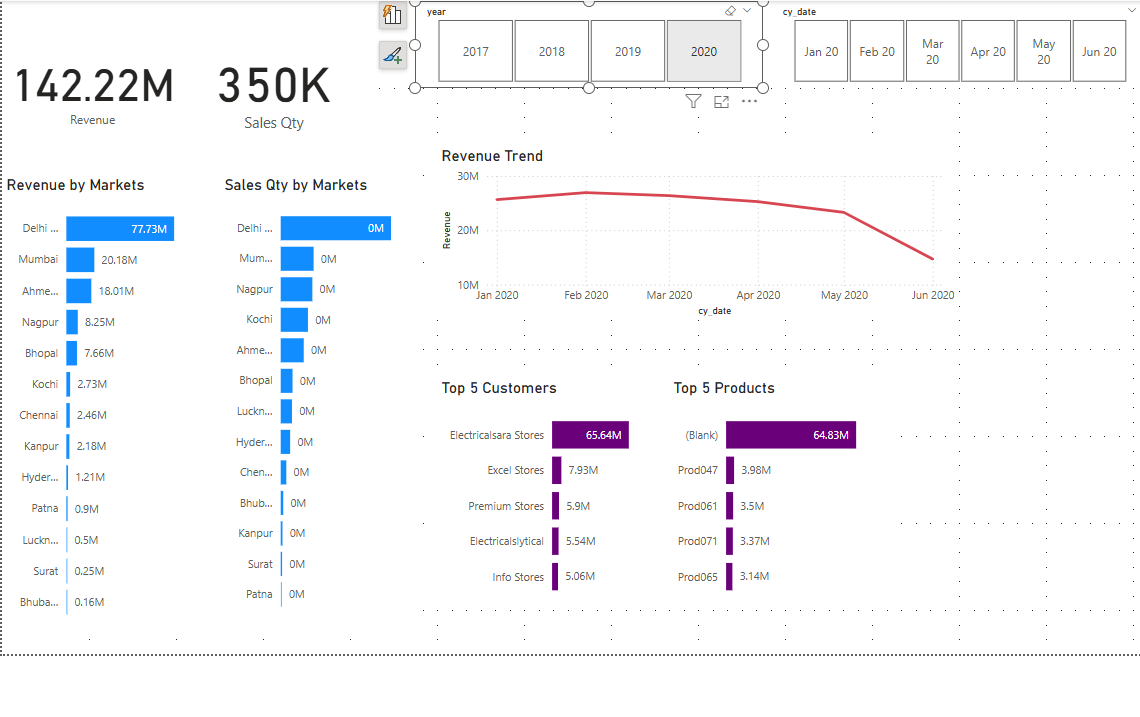

This screenshot's page, from the dashboard's own definition file:
{"tool":"powerbi","page":{"name":"Page 2","canvas":[1280,720],"ordinal":1},"visuals":[{"type":"card","fields":{"Values":["BaseMeasures.Revenue"]},"box":[0,0,200,192],"z":0},{"type":"card","fields":{"Values":["BaseMeasures.Sales Qty"]},"box":[192,0,216,192],"z":1000},{"type":"barChart","title":"Revenue by Markets","fields":{"Y":["BaseMeasures.Revenue"],"Category":["sales markets.markets_name"]},"box":[0,192,232,504],"z":2000},{"type":"barChart","title":"Sales Qty by Markets","fields":{"Y":["BaseMeasures.Sales Qty"],"Category":["sales markets.markets_name"]},"box":[240,192,216,504],"z":3000},{"type":"slicer","fields":{"Values":["sales date.year"]},"box":[456,0,384,96],"z":4000},{"type":"slicer","fields":{"Values":["sales date.cy_date"]},"box":[848,0,416,96],"z":5000},{"type":"barChart","title":"Top 5 Customers","fields":{"Y":["BaseMeasures.Revenue"],"Category":["sales customers.custmer_name"]},"box":[480,416,256,256],"z":6000},{"type":"barChart","title":"Top 5 Products","fields":{"Y":["BaseMeasures.Revenue"],"Category":["sales products.product_code"]},"box":[736,416,256,256],"z":7000},{"type":"lineChart","title":"Revenue Trend","fields":{"Y":["BaseMeasures.Revenue"],"Category":["sales date.cy_date"]},"box":[480,160,576,192],"z":8000}]}

Visuals, with their boxes on the page's 1280x720 design canvas (x1, y1, x2, y2). These are canvas units, not pixel positions in the 1140x717 screenshot, which may show the page scaled, cropped or inside an application window:
card - BaseMeasures.Revenue: (0,0,200,192)
card - BaseMeasures.Sales Qty: (192,0,408,192)
"Revenue by Markets" barChart: (0,192,232,696)
"Sales Qty by Markets" barChart: (240,192,456,696)
slicer - sales date.year: (456,0,840,96)
slicer - sales date.cy_date: (848,0,1264,96)
"Top 5 Customers" barChart: (480,416,736,672)
"Top 5 Products" barChart: (736,416,992,672)
"Revenue Trend" lineChart: (480,160,1056,352)
